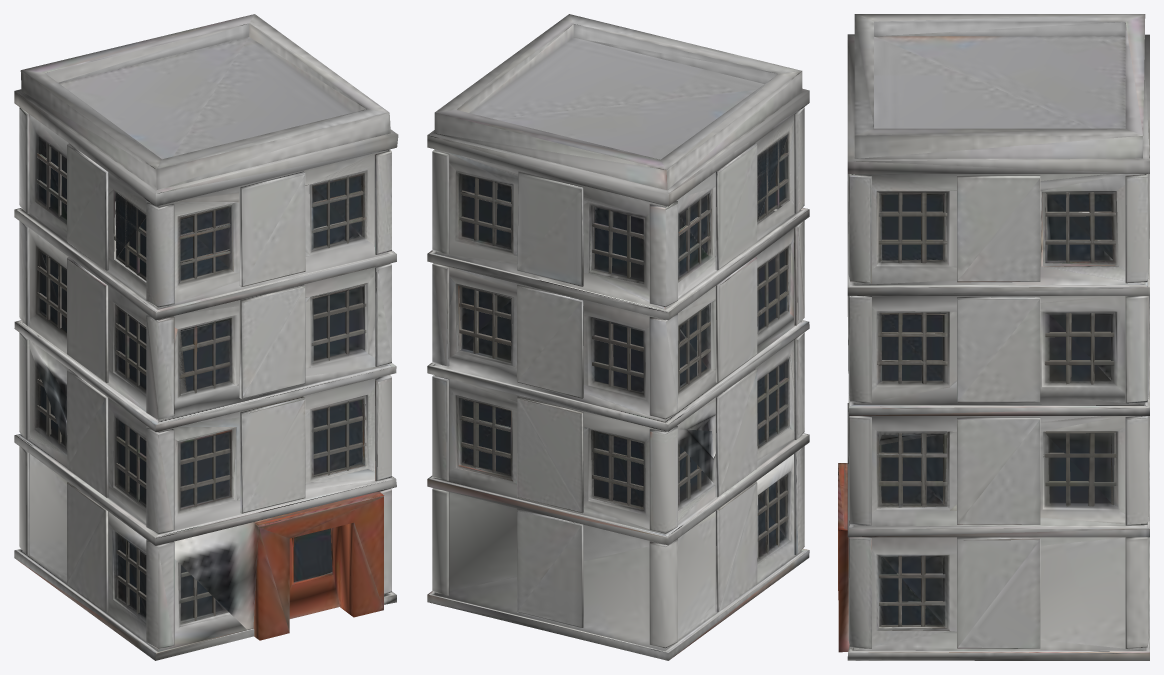
The model's file is 05-apartment-4-floors.glb.
3 views of the same model, side by side, from view 1: azimuth 30°, elevation 25°; view 2: azimuth 150°, elevation 25°; view 3: azimuth 270°, elevation 25° (orthographic). The views are drawn at different scales.
Parts seen in each view (by area): view 1: geometry_0; view 2: geometry_0; view 3: geometry_0.
Part boxes in pixels (x1,y1,x2,y2): geometry_0: [14, 14, 398, 660]; geometry_0: [427, 14, 809, 660]; geometry_0: [838, 14, 1149, 660].
Bounding box in the file's own units: 0.4946 × 0.9517 × 0.5141.
Materials: 1 (1 with a texture image).
